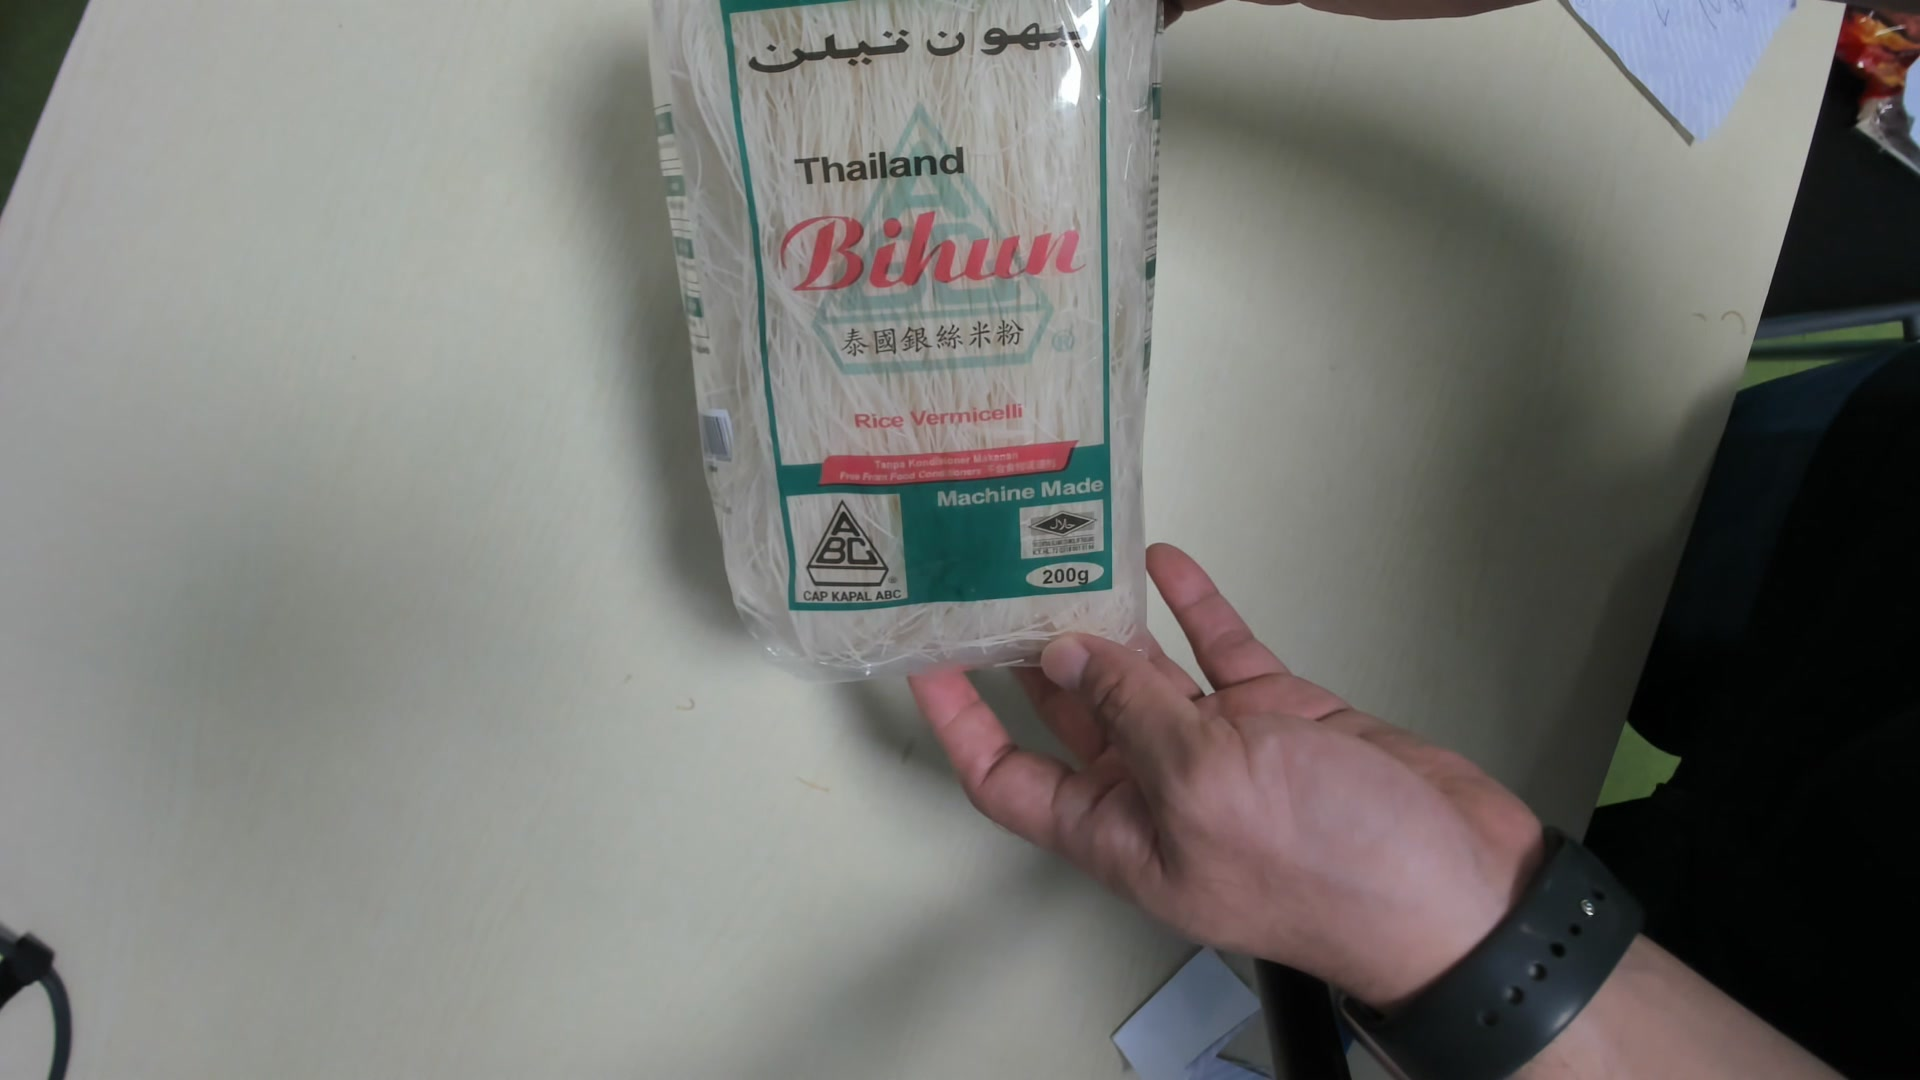BeeHoonVermicelli_200-299g_Halal_NonHealthy: (636, 7, 1164, 662)
